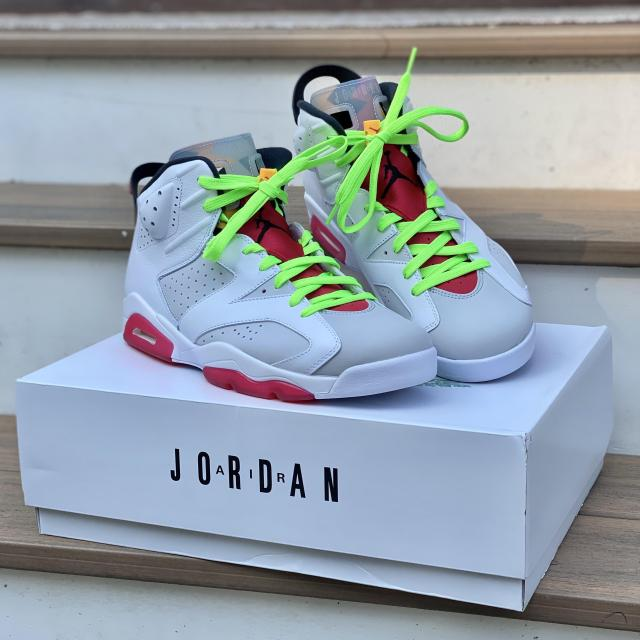shoe: (119, 132, 440, 403), (276, 63, 538, 386)
